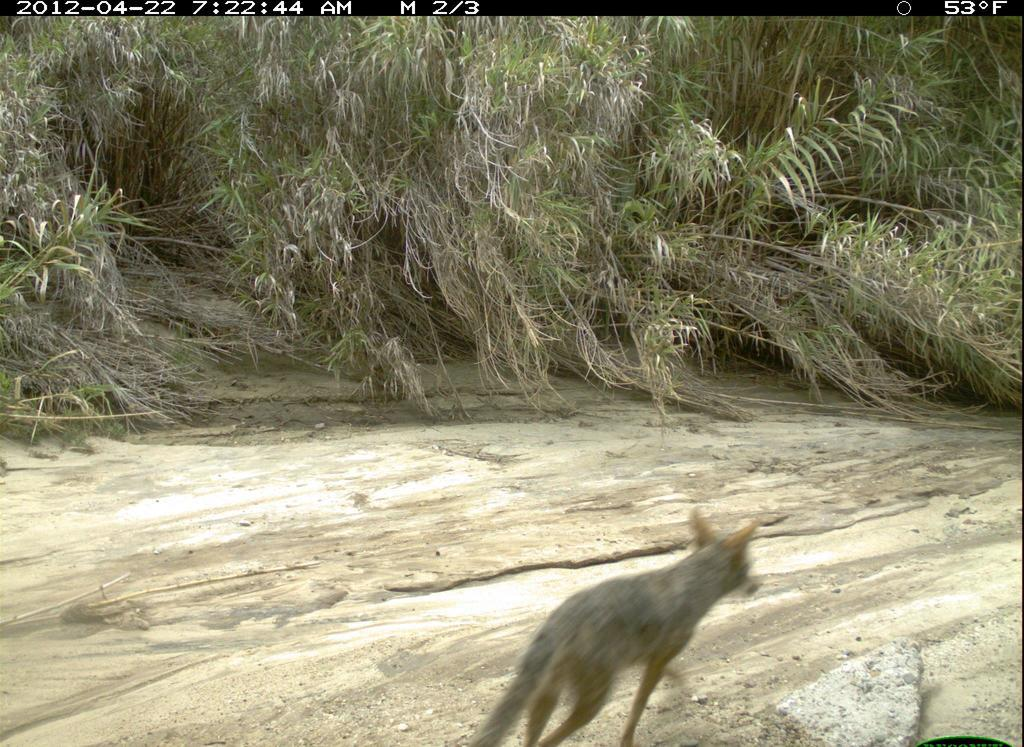coyote: (468, 506, 763, 745)
